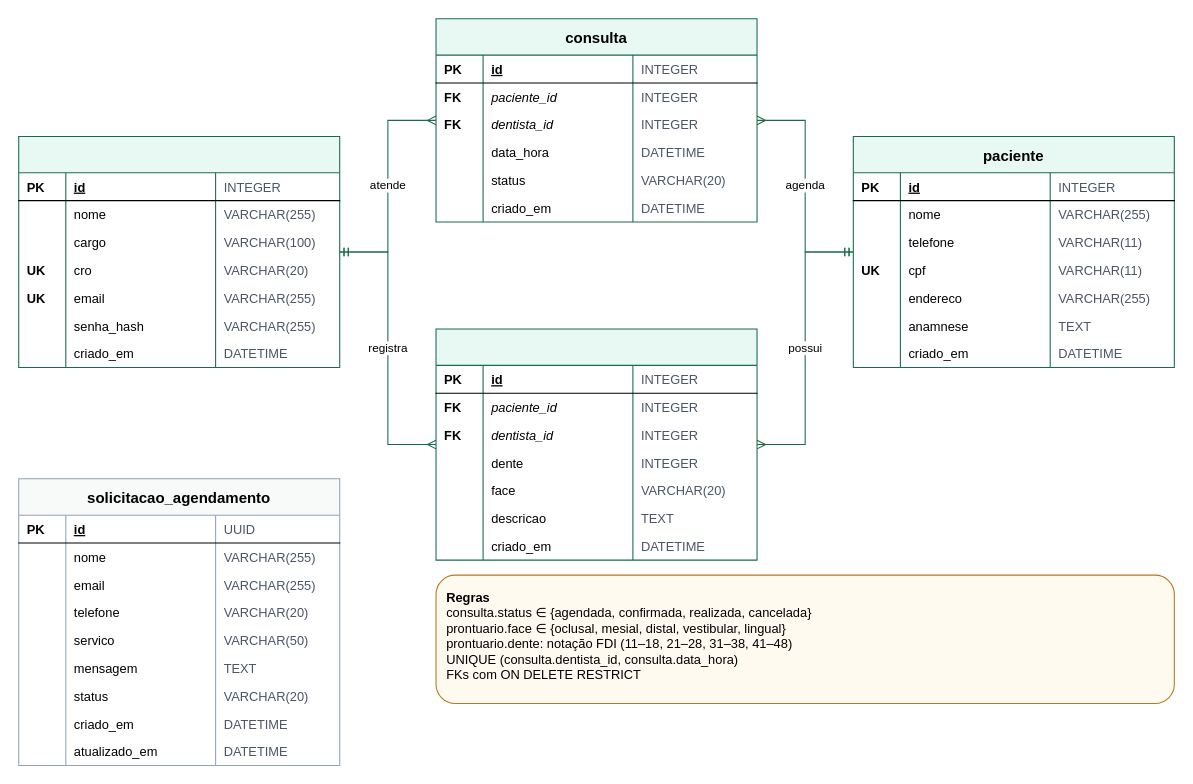
Some shapes in this 1193 by 784 pixel diagram are drawn without their labels. Here are the shapes that lost their labels. From the top down, the box of each, then its label:
(18, 135, 340, 368): dentista
(435, 328, 757, 560): prontuario
